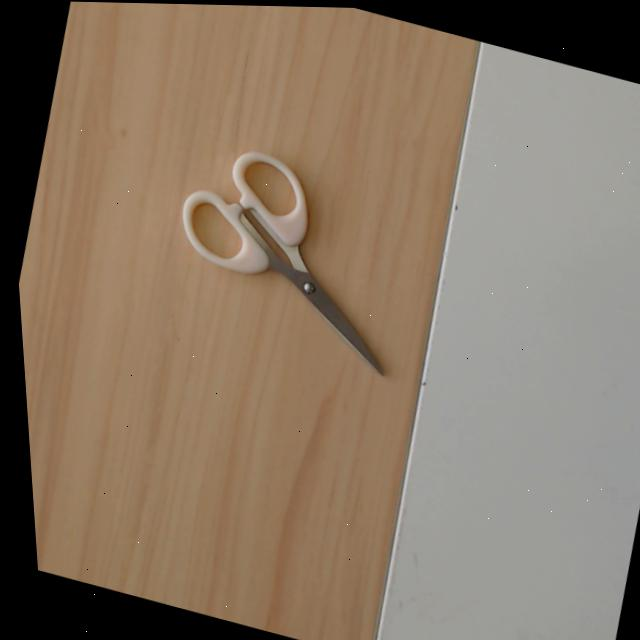Gunting: (164, 128, 449, 384)
